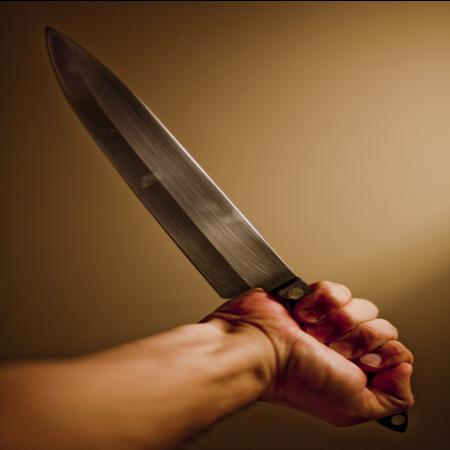long weapon: (40, 17, 424, 364)
